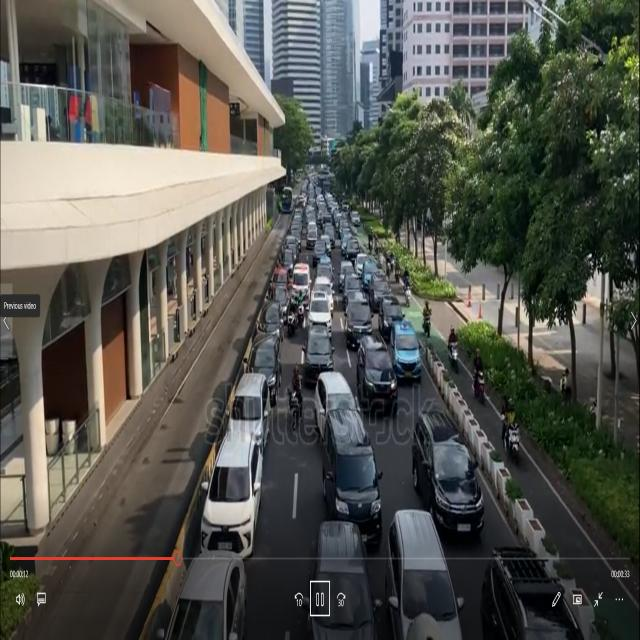Ambulance: (290, 258, 311, 306)
